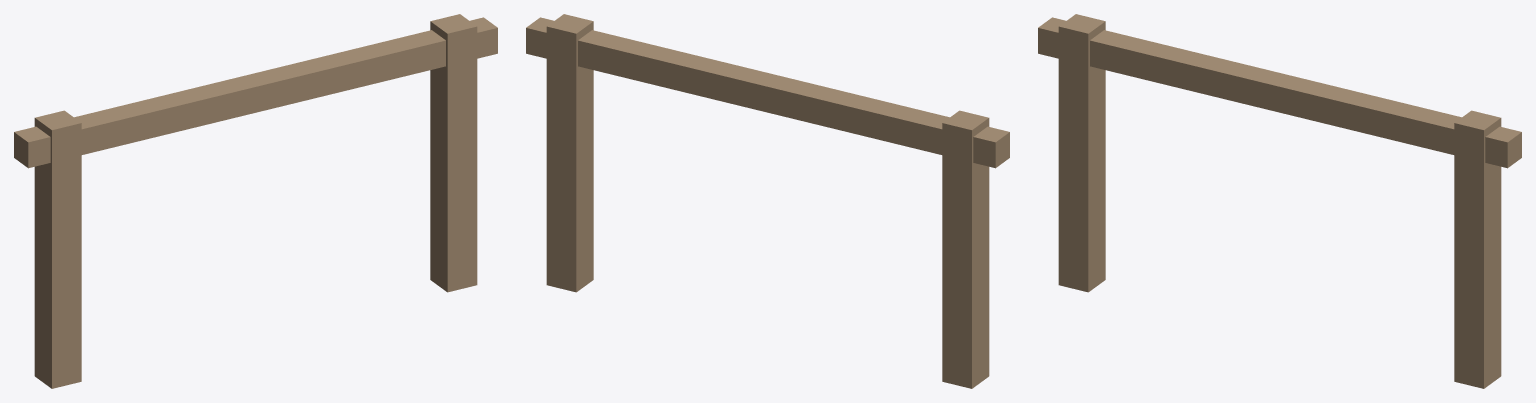
File: HitchingPost.glb
3 renders of one model, left to right at view 1: azimuth 30°, elevation 25°; view 2: azimuth 150°, elevation 25°; view 3: azimuth 330°, elevation 25°, orthographic.
Visible parts, largest first — view 1: HitchingPost; view 2: HitchingPost; view 3: HitchingPost.
Part boxes in pixels (bbox=[...]): HitchingPost: bbox=[14, 14, 497, 388]; HitchingPost: bbox=[526, 14, 1009, 388]; HitchingPost: bbox=[1038, 14, 1521, 388].
Bounding box in the file's own units: 1.9 × 1 × 0.12.
